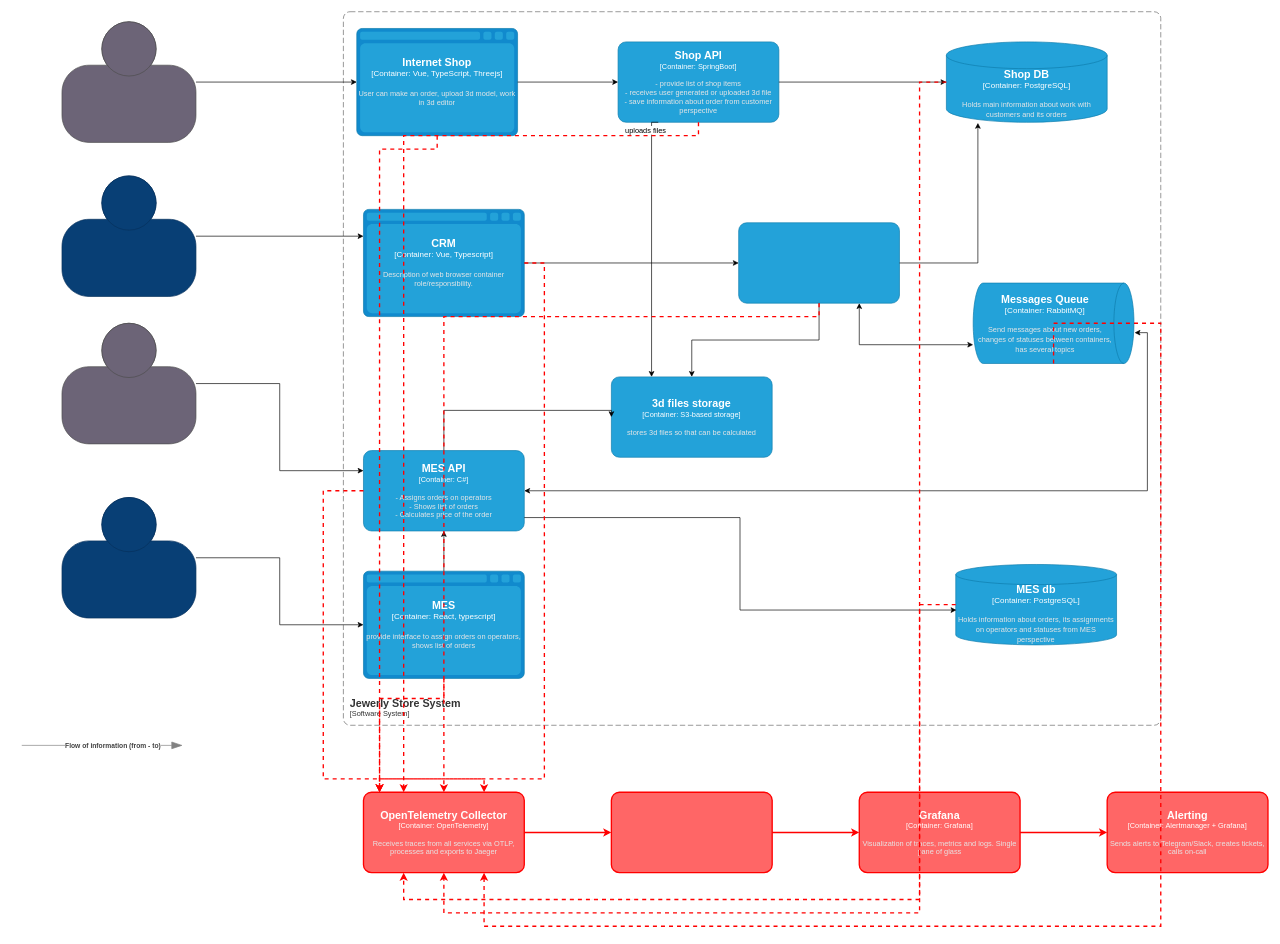
Image size: 1280x944. Some labels were removed from this diagram. Each missing label, with the box of its shape:
API user [Person] Description of external person.: (61, 323, 196, 444)
CRM API [Container: SpringBoot] Description of container role/responsibility.: (738, 222, 899, 303)
Customer [Person] Description of external person.: (61, 21, 196, 142)
Jaeger [Container: Jaeger] Stores traces, provides UI for search and analysis: (610, 791, 773, 873)
Operator [Person] Takes order in work, manufactures jewerly: (61, 497, 196, 618)
Seller [Person] Operates with order, confirms manufacturing for the user: (61, 175, 196, 296)
